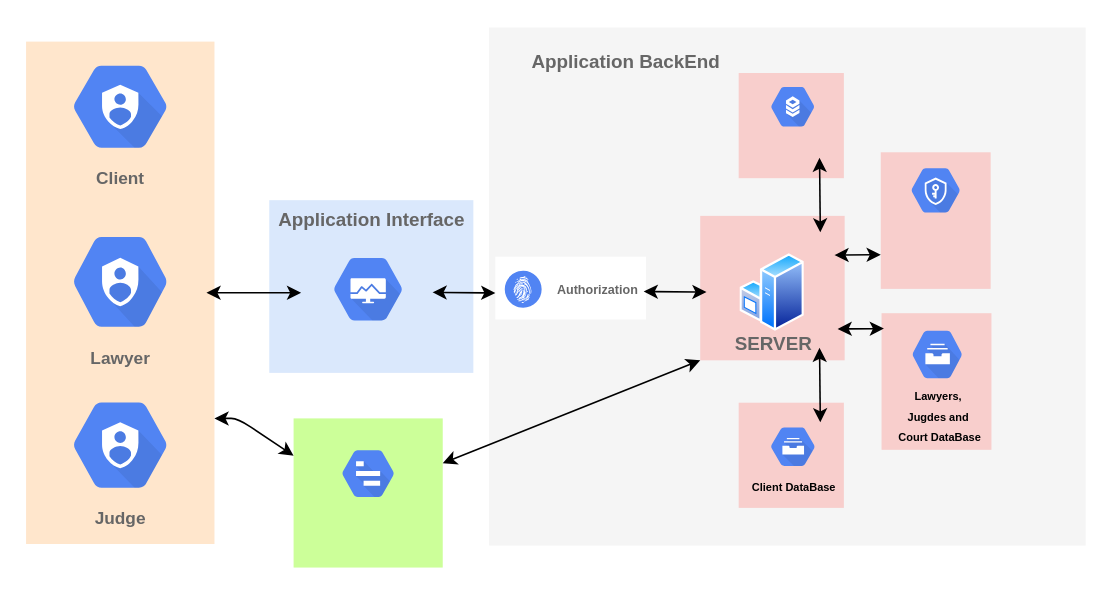
The diagram is 1113 pixels wide and 593 high, and some of its shapes have lost their labels. The shapes that lost their labels are listed below. From the top down, each one's box as (x1, y1, x2, y2) in pixels, then its label:
(759, 77, 825, 135): Case DataBase
(898, 157, 972, 222): Secure Payment Gateway
(328, 438, 407, 507): Auto Reminders (Mail/SMS)
